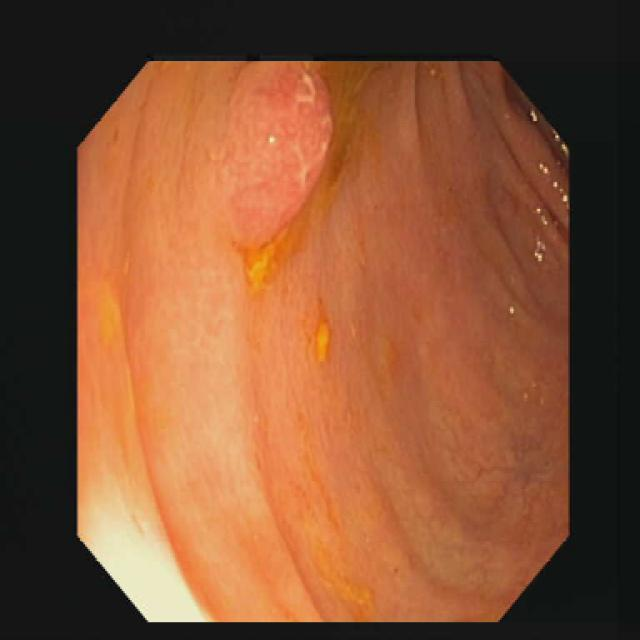tumor: (223, 62, 332, 287)
